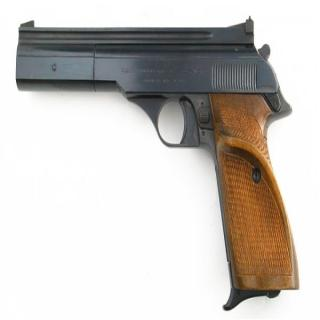gun: (10, 6, 308, 309)
